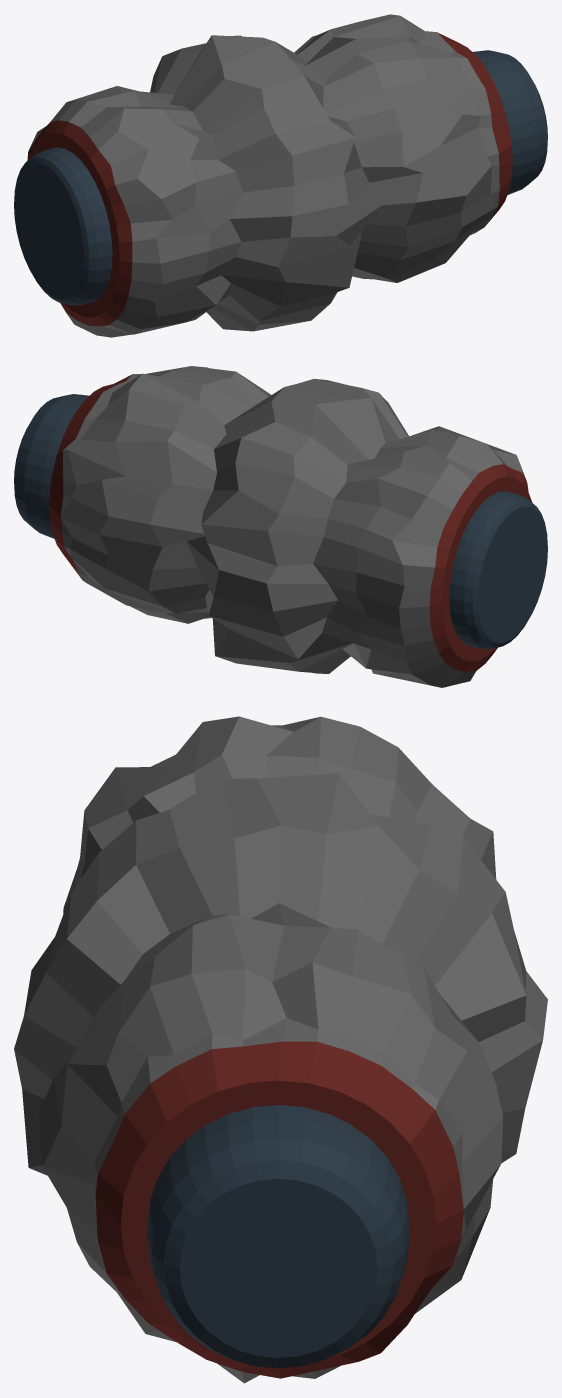
The model's file is RockUpper.fbx.
3 renders of one model, top to bottom at view 1: azimuth 30°, elevation 25°; view 2: azimuth 150°, elevation 25°; view 3: azimuth 270°, elevation 25°, orthographic. The views are drawn at different scales.
Parts seen in each view (by area): view 1: Cylinder.012; view 2: Cylinder.012; view 3: Cylinder.012.
Part boxes in pixels (x1=…): Cylinder.012: x1=14, y1=14, x2=547, y2=337; Cylinder.012: x1=14, y1=366, x2=547, y2=687; Cylinder.012: x1=14, y1=716, x2=547, y2=1383.
Bounding box in the file's own units: 87.83 × 48.5 × 49.02.
